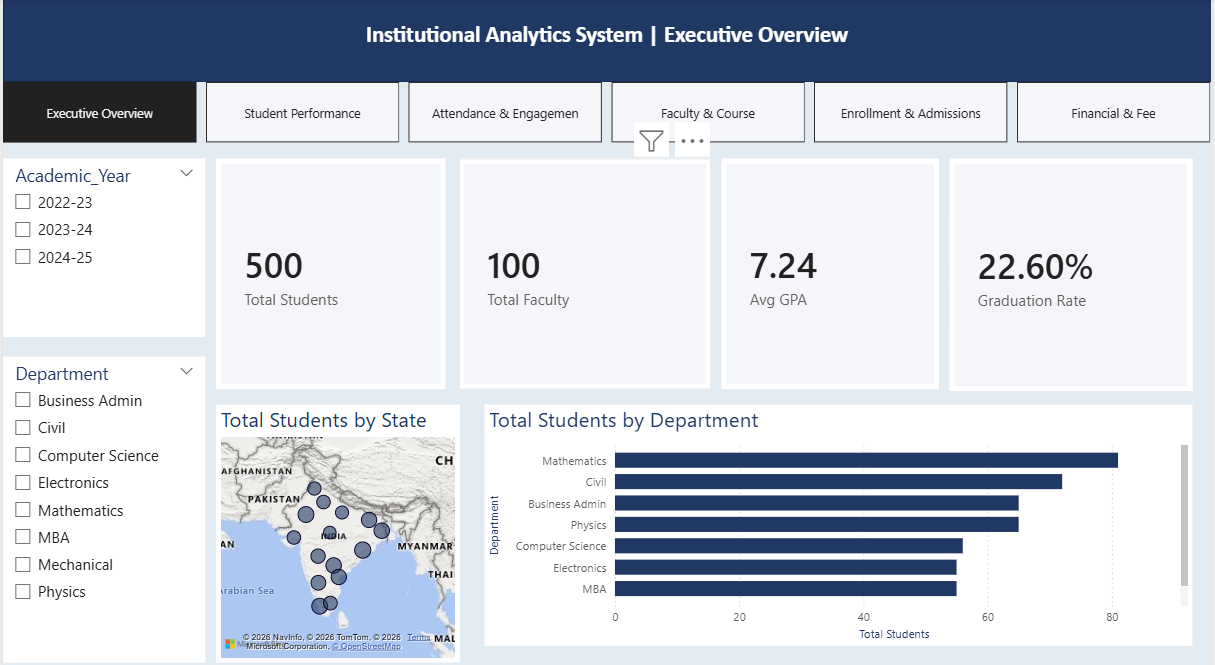

The page's visual inventory and layout, read from the dashboard file:
{"tool":"powerbi","page":{"name":"Executive Overview","canvas":[1280,720],"ordinal":0},"visuals":[{"type":"shape","box":[0,0,1280.8,89.1],"z":0},{"type":"textbox","box":[0,19.4,1280.8,69.6],"z":1000},{"type":"pageNavigator","box":[0,89.1,1280.8,64.8],"z":2000},{"type":"slicer","fields":{"Values":["Students_Master.Academic_Year"]},"box":[0,170.2,214.7,189.3],"z":3000},{"type":"slicer","fields":{"Values":["Students_Master.Department"]},"box":[0,380.2,214.7,324.5],"z":4000},{"type":"cardVisual","fields":{"Data":["Admissions.Total Students"]},"box":[225.9,170.2,243.4,245],"z":5000},{"type":"cardVisual","fields":{"Data":["Admissions.Total Faculty"]},"box":[483.5,170.2,267.2,245],"z":6000},{"type":"cardVisual","fields":{"Data":["Admissions.Avg GPA"]},"box":[761.9,170.2,230.6,245],"z":7000},{"type":"cardVisual","fields":{"Data":["Admissions.Graduation Rate"]},"box":[1003.7,170.2,257.7,246.5],"z":8000},{"type":"map","fields":{"Category":["Students_Master.State"],"Size":["Admissions.Total Students"]},"box":[225.9,431.1,257.7,273.6],"z":9000},{"type":"clusteredBarChart","fields":{"Category":["Students_Master.Department"],"Y":["Admissions.Total Students"]},"box":[510.6,431.1,750.8,256.1],"z":10000}]}

Visuals, with their boxes in screenshot pixels (x1, y1, x2, y2), scaled from the page's 1280x720 canvas onto the 1215x665 screenshot:
shape: pyautogui.locateOnScreen(0, 0, 1214, 82)
textbox: pyautogui.locateOnScreen(0, 18, 1214, 82)
pageNavigator: pyautogui.locateOnScreen(0, 82, 1214, 142)
slicer - Students_Master.Academic_Year: pyautogui.locateOnScreen(0, 157, 204, 332)
slicer - Students_Master.Department: pyautogui.locateOnScreen(0, 351, 204, 651)
cardVisual - Admissions.Total Students: pyautogui.locateOnScreen(214, 157, 445, 383)
cardVisual - Admissions.Total Faculty: pyautogui.locateOnScreen(459, 157, 713, 383)
cardVisual - Admissions.Avg GPA: pyautogui.locateOnScreen(723, 157, 942, 383)
cardVisual - Admissions.Graduation Rate: pyautogui.locateOnScreen(953, 157, 1197, 385)
map - Students_Master.State x Admissions.Total Students: pyautogui.locateOnScreen(214, 398, 459, 651)
clusteredBarChart - Students_Master.Department x Admissions.Total Students: pyautogui.locateOnScreen(485, 398, 1197, 635)
